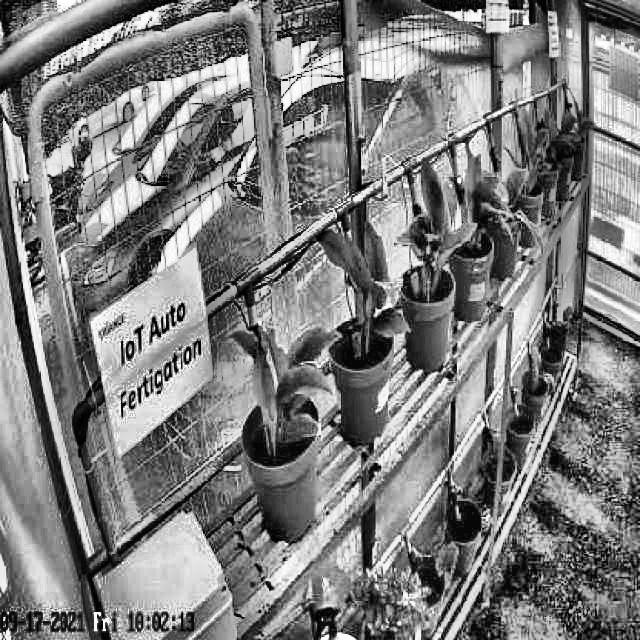plants: (232, 327, 342, 438), (318, 222, 410, 338), (398, 162, 476, 282), (453, 158, 509, 254)
